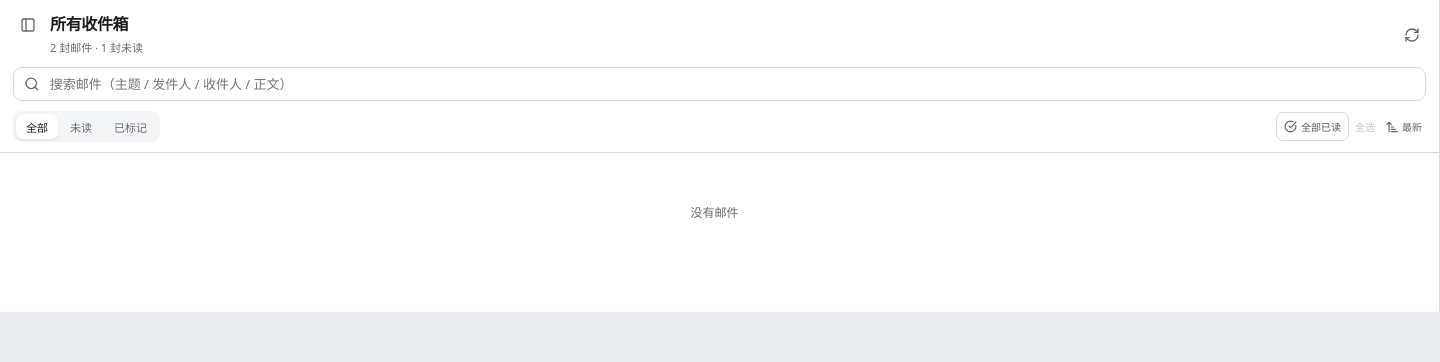
it: <MessageList /> › immediate sync reports the failure and stops spinning when a request fails
This screenshot has width=1440, height=362.
Click the button named "立即同步" at (1412, 34), box [1397,20,1426,49]
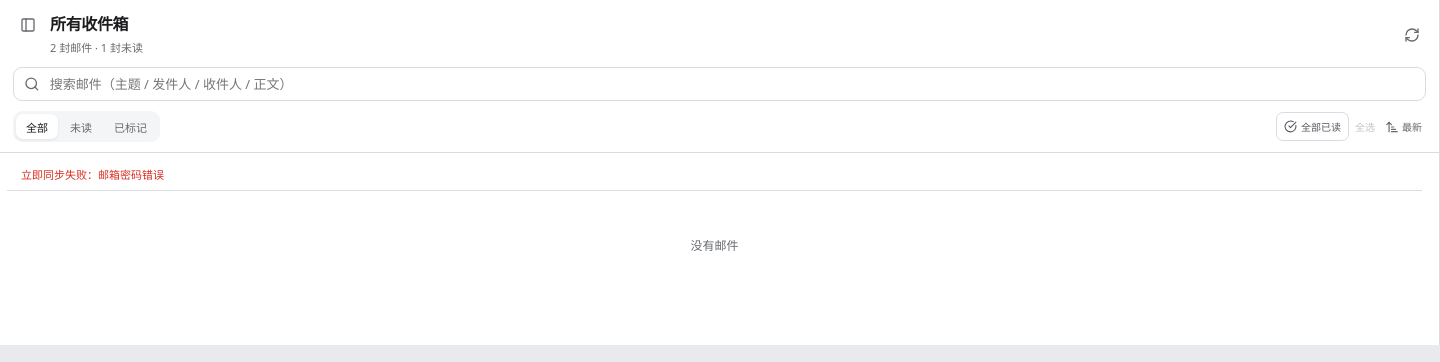
Result: the message with class "error" shows "立即同步失败" at [21,167,164,182]
Result: the message with class "error" shows "邮箱密码错误" at [21,167,164,182]
